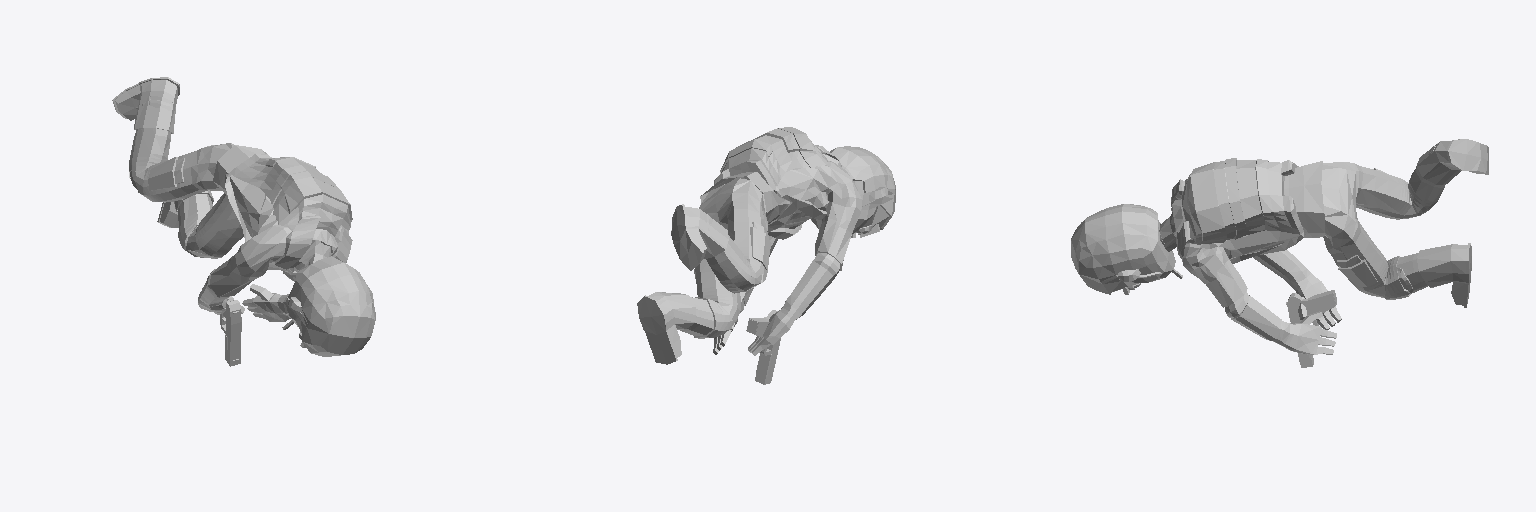
The model's file is frame_0046.obj.
3 views of the same model, side by side, from view 1: azimuth 30°, elevation 25°; view 2: azimuth 150°, elevation 25°; view 3: azimuth 270°, elevation 25° (orthographic).
Visible parts, largest first — view 1: Body, Gun; view 2: Body, Gun; view 3: Body, Gun.
Part boxes in pixels (x1,y1,x2,y2): Body: (112,77,375,356); Gun: (220,296,241,366); Body: (637,127,895,364); Gun: (746,310,780,384); Body: (1071,139,1488,354); Gun: (1286,290,1336,367).
Size of the model in its own units: 1.25 by 2.29 by 3.76.